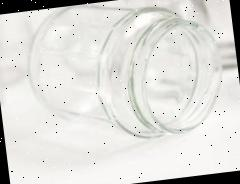glass: (19, 0, 232, 152)
